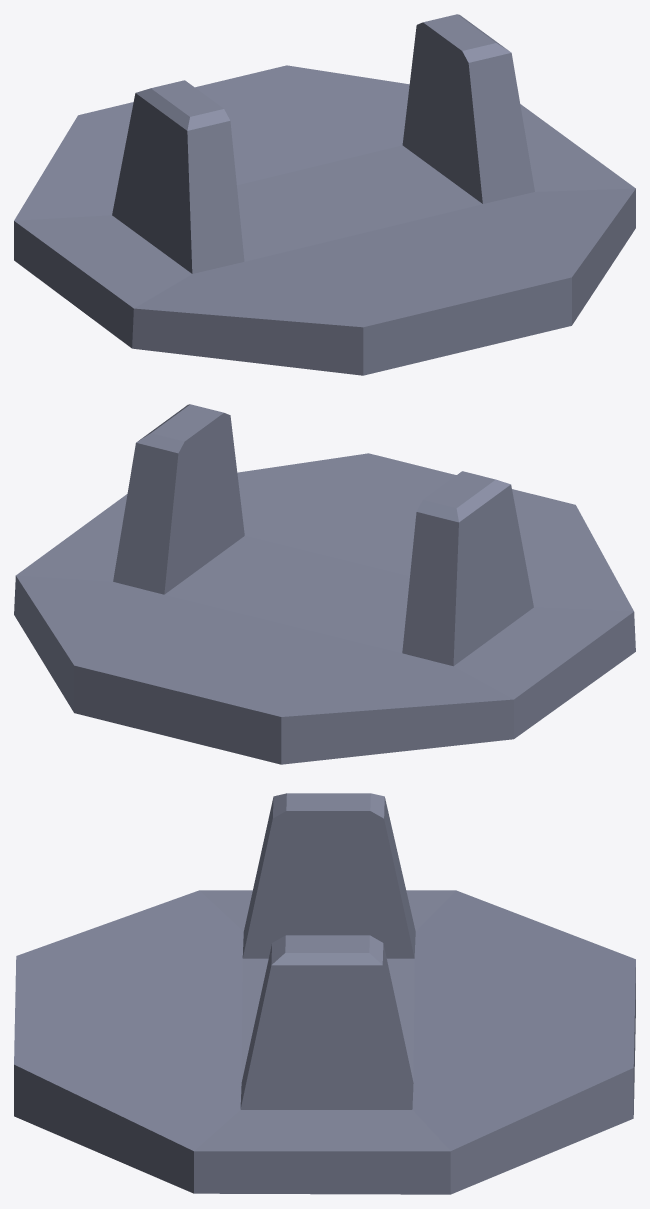
Rendered from Cannon1_Alt.fbx.
The picture shows the model from 3 angles, top to bottom: view 1: azimuth 30°, elevation 25°; view 2: azimuth 150°, elevation 25°; view 3: azimuth 270°, elevation 25°; orthographic projection. The views are drawn at different scales.
Visible parts, largest first — view 1: CannonAlt; view 2: CannonAlt; view 3: CannonAlt.
Boxes of the visible parts, box(x1,y1,x2,y2) form: CannonAlt: box(14, 14, 635, 375); CannonAlt: box(14, 404, 635, 764); CannonAlt: box(14, 793, 635, 1194).
Bounding box in the file's own units: 20.09 × 6.78 × 20.09.
